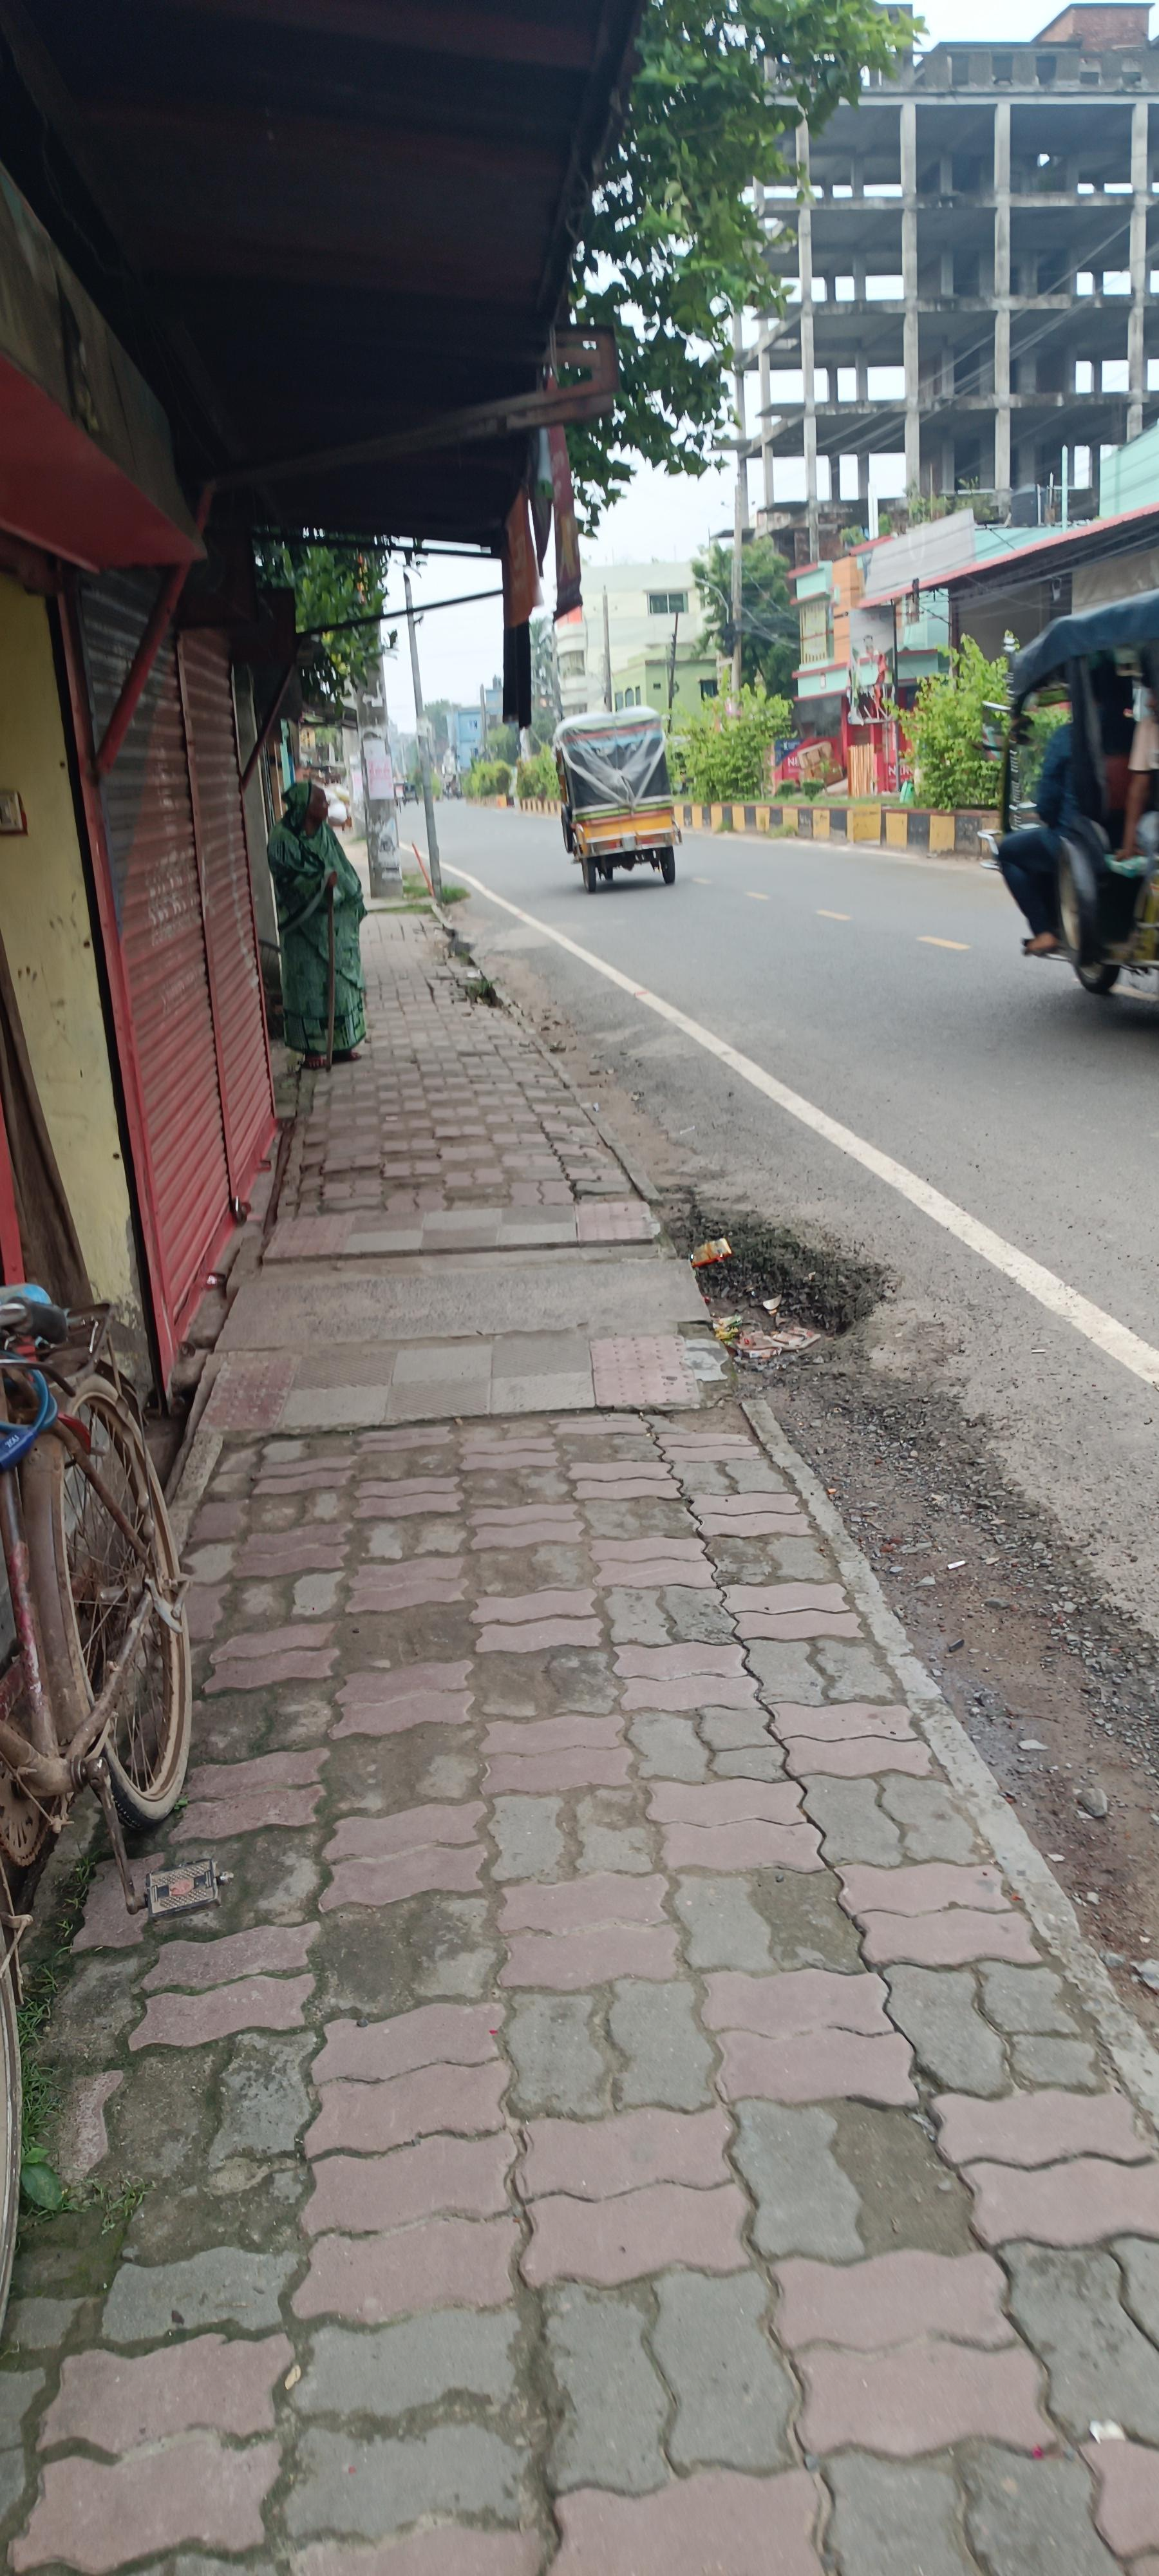Fallen-tree: (981, 588, 1158, 1002)
Garbage-bin: (266, 780, 368, 1069)
Motorcycle: (650, 1184, 903, 1370)
Pothole: (5, 860, 1156, 2569)
Traffic-cone: (503, 703, 728, 895)
